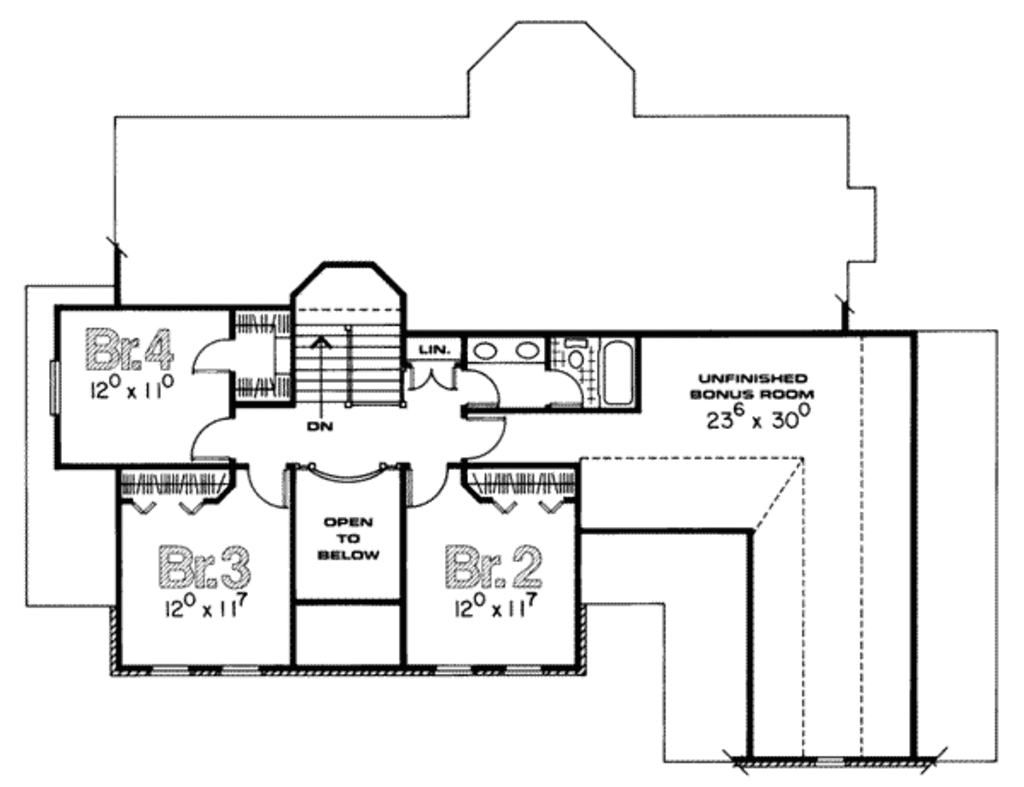door: (460, 409, 511, 467), (408, 460, 455, 513), (184, 411, 234, 459), (246, 459, 290, 513), (186, 331, 233, 379), (461, 368, 500, 419), (542, 367, 586, 409)
large_sink: (561, 334, 590, 375)
stairs: (292, 255, 411, 426)
tub: (596, 332, 641, 416)
window: (46, 359, 68, 415), (214, 658, 259, 680), (434, 658, 477, 679), (147, 662, 197, 679), (809, 747, 844, 770), (502, 664, 545, 679)
